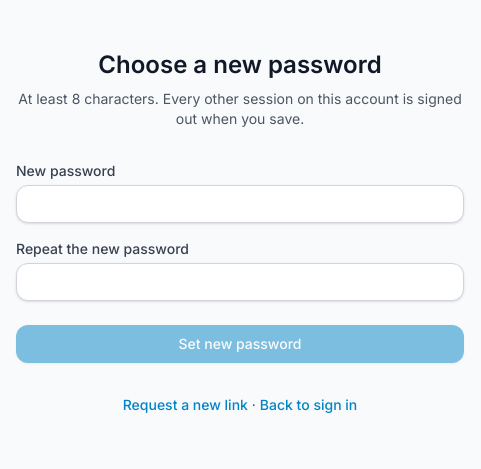
Test: ResetPasswordPage › shows the API's reason for a bad link
In the password field labelled "New password": (240, 204) top-left (16, 185), bottom-right (464, 223), type "a brand new passphrase"
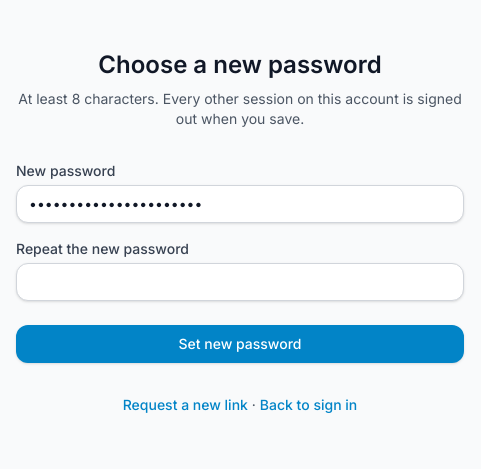
In the password field labelled "Repeat the new password": (240, 282) top-left (16, 263), bottom-right (464, 301), type "a brand new passphrase"
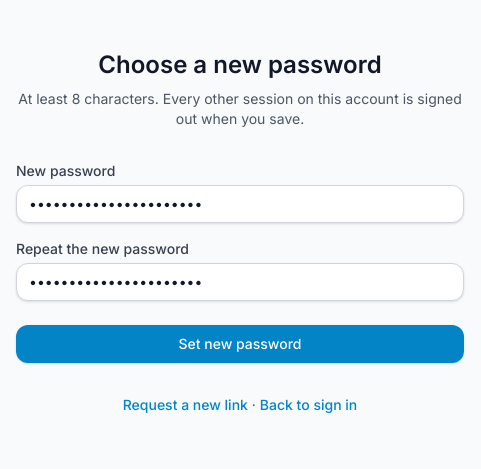
Click the button "Set new password": (240, 344) top-left (16, 325), bottom-right (464, 363)
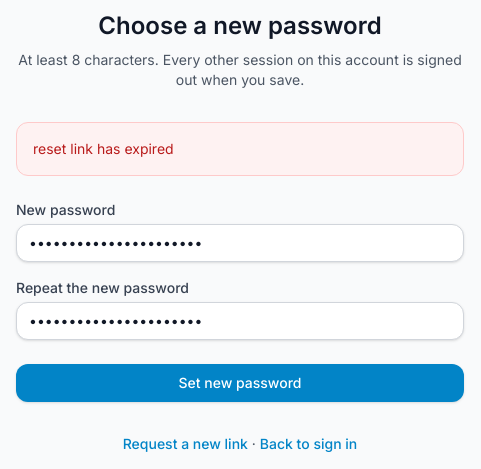
Check: the link "Request a new link" is shown, box top-left (123, 435), bottom-right (248, 452)
Check: the message shows "expired", box top-left (33, 140), bottom-right (174, 157)
